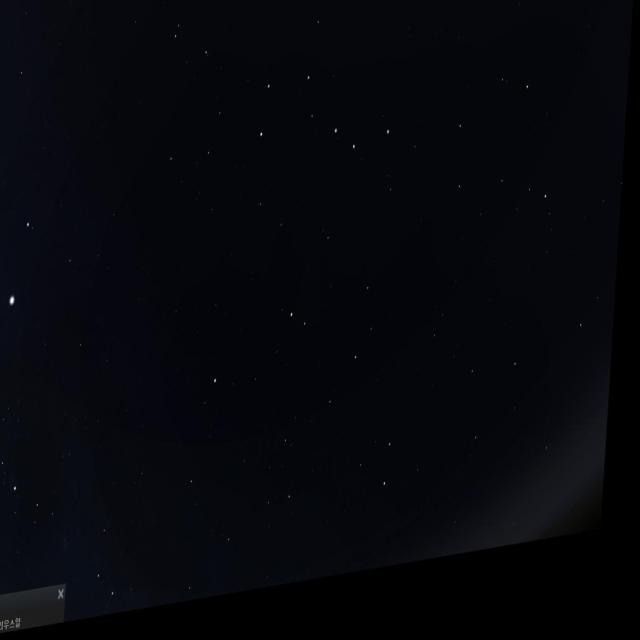ursa_major: (247, 52, 410, 204)
